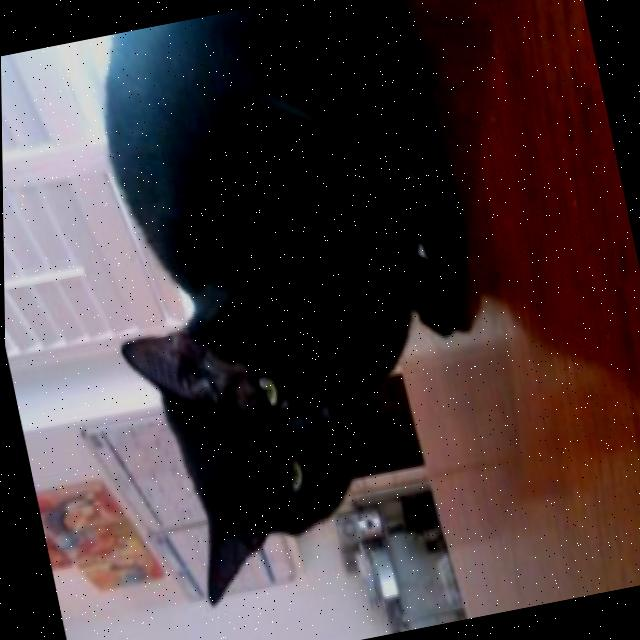Bombay: (49, 0, 533, 623)
